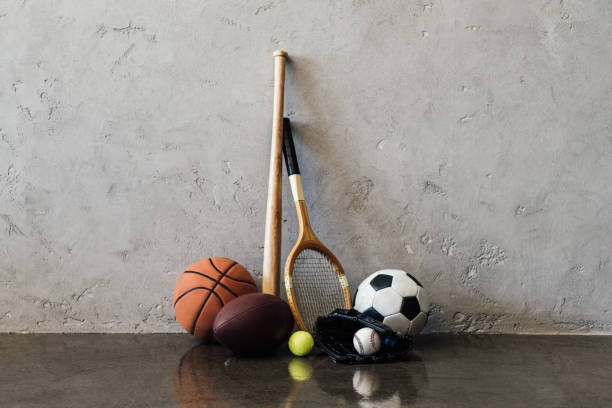bita: (259, 49, 285, 300)
